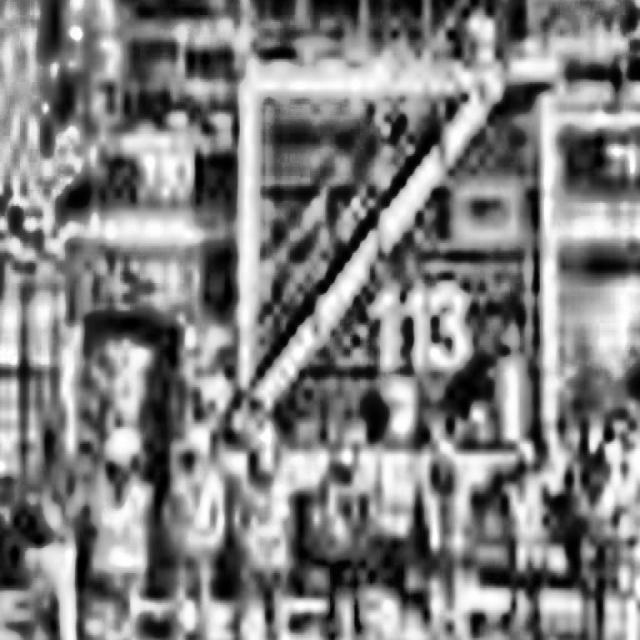dump_truck: (55, 0, 640, 608)
